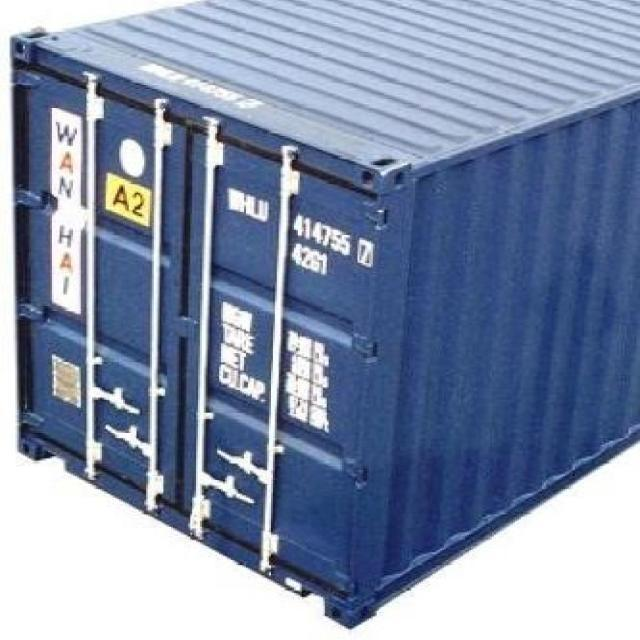ISO: (274, 244, 342, 276)
container_number: (212, 178, 384, 263)
